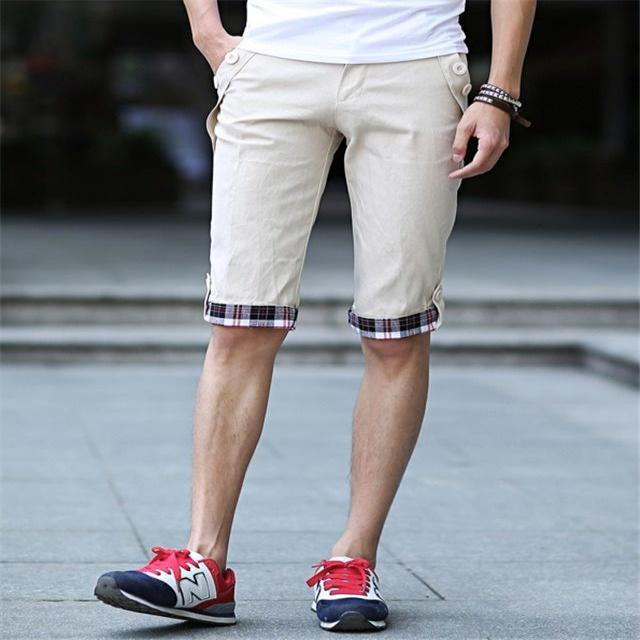shorts: (127, 31, 486, 364)
